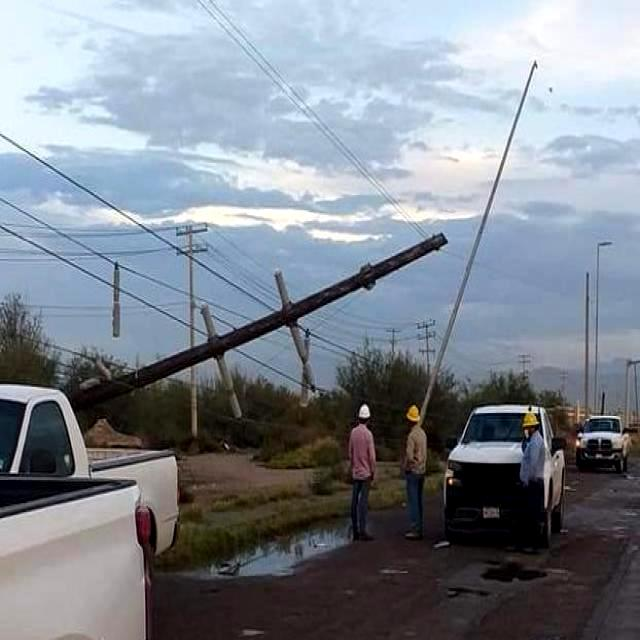Broken Pole: (66, 234, 447, 416)
